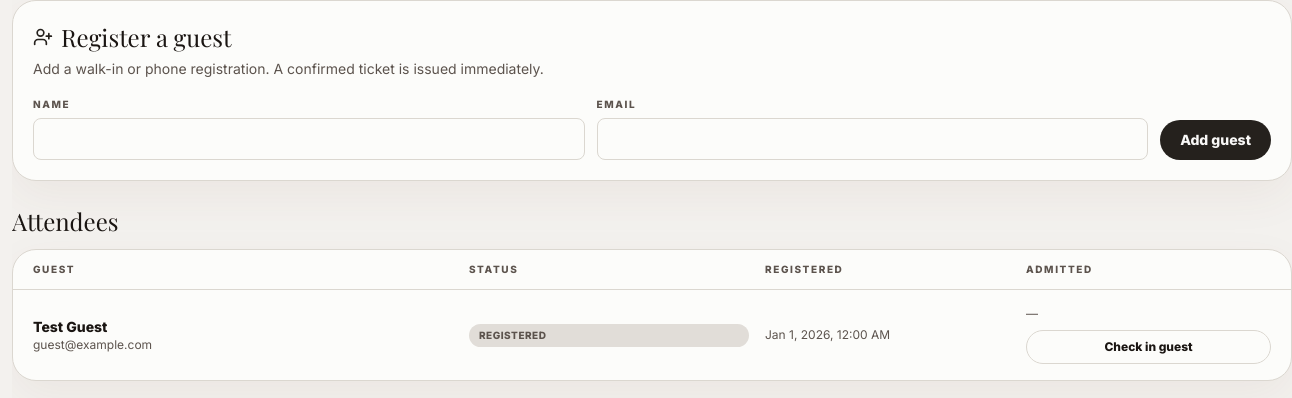
Scenario: stale attendee list reports Already admitted from the server
The image size is (1292, 398).
Click the button with aria-label "Check in Test Guest": click(1148, 347) x1=1026 y1=330 x2=1271 y2=364
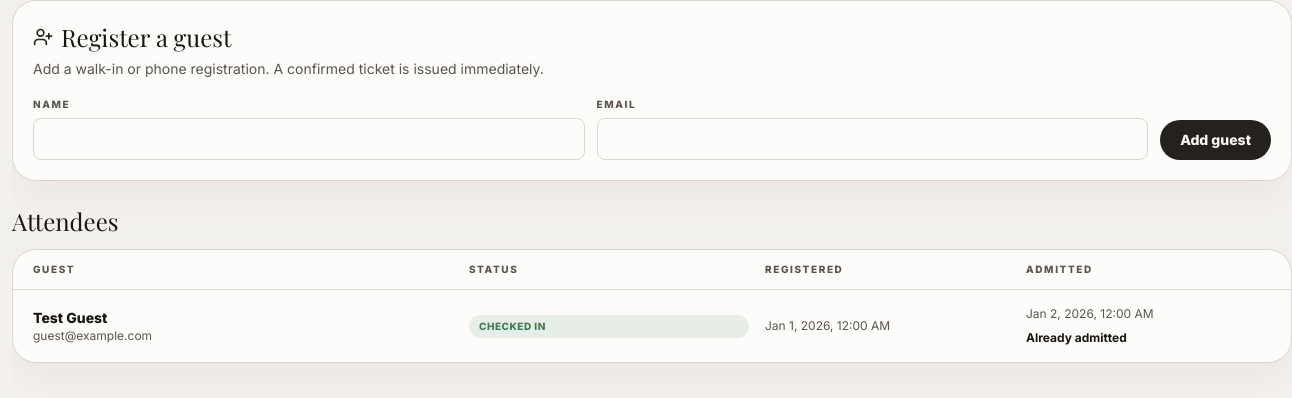
Result: the message "Already admitted" is shown at x1=1026 y1=330 x2=1127 y2=345
